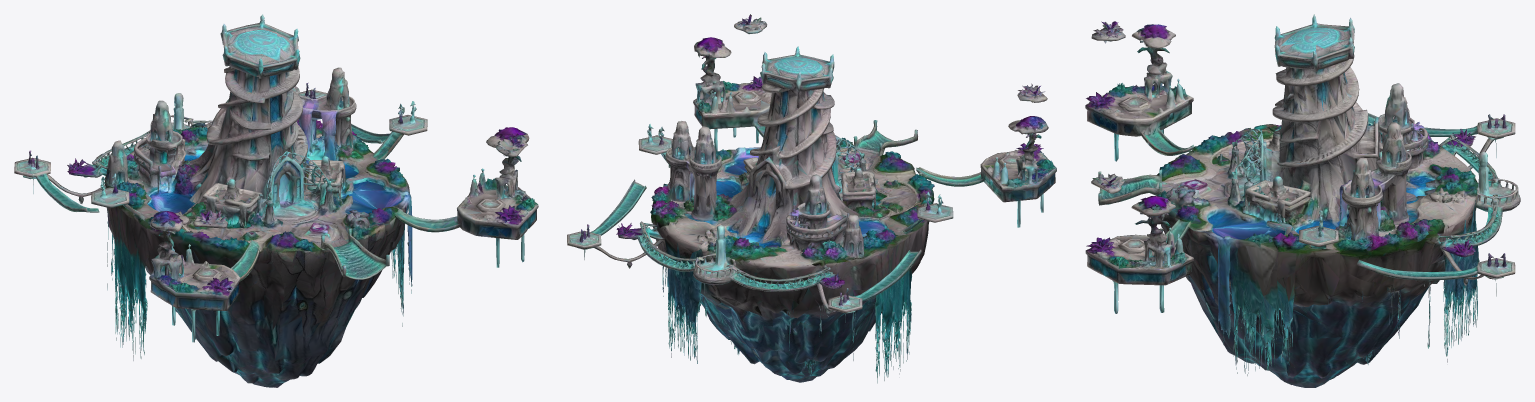
Rendered from Azure_Citadel_of_the_.glb.
The picture shows the model from 3 angles, left to right: view 1: azimuth 30°, elevation 25°; view 2: azimuth 150°, elevation 25°; view 3: azimuth 270°, elevation 25°; orthographic projection. The views are drawn at different scales.
Parts seen in each view (by area): view 1: Azure_Citadel_of_the_; view 2: Azure_Citadel_of_the_; view 3: Azure_Citadel_of_the_.
Boxes of the visible parts, box(x1,y1,x2,y2) form: Azure_Citadel_of_the_: box(14, 14, 538, 387); Azure_Citadel_of_the_: box(567, 14, 1056, 383); Azure_Citadel_of_the_: box(1085, 14, 1520, 387).
Size of the model in its own units: 1.9 by 1.7 by 1.86.
Materials: 1 (1 with a texture image).
